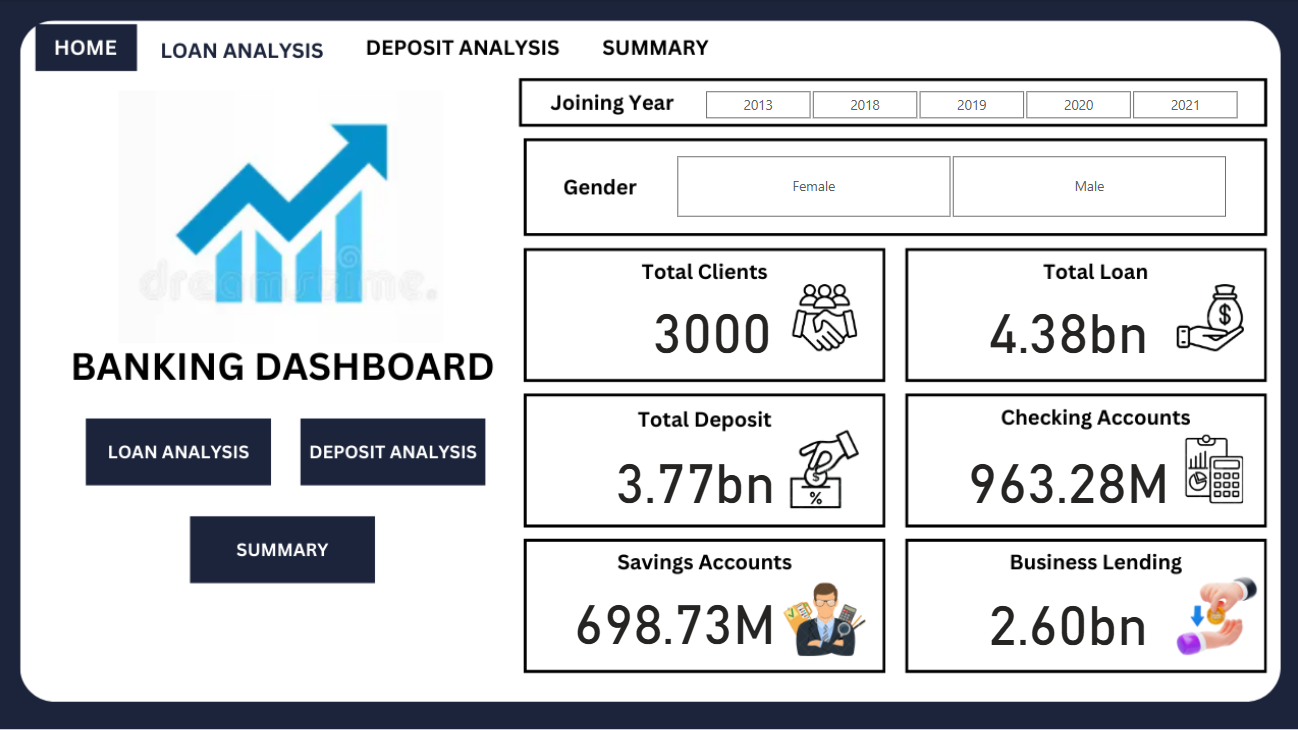

The dashboard page shown, as its layout file describes it:
{"tool":"powerbi","page":{"name":"Home","canvas":[1280,720],"ordinal":0},"visuals":[{"type":"card","fields":{"Values":["banking-clients.Name"]},"box":[620.9,283.4,160.7,76.1],"z":0},{"type":"slicer","fields":{"Values":["banking-clients.GenderId"]},"box":[640.5,147.2,589,73.6],"z":1000},{"type":"card","fields":{"Values":["banking-clients.Total Loan"]},"box":[962,283.4,177.9,76.1],"z":2000},{"type":"card","fields":{"Values":["banking-clients.Total Deposits"]},"box":[597.5,430.7,174.2,76.1],"z":3000},{"type":"slicer","fields":{"Values":["banking-clients.Year Of Joining"]},"box":[668.2,83.5,572.2,37.4],"z":4000},{"type":"card","fields":{"Values":["banking-clients.Saving Accounts"]},"box":[557.2,569.7,214.4,76],"z":5000},{"type":"card","fields":{"Values":["banking-clients.Business Lending"]},"box":[963.6,570.9,174.5,76],"z":6000},{"type":"card","fields":{"Values":["banking-clients.Checking Accounts"]},"box":[943.7,430.1,214.4,76],"z":7000},{"type":"actionButton","box":[88.3,414.7,179.1,63.8],"z":8000},{"type":"actionButton","box":[298.2,414.7,179.1,63.8],"z":9000},{"type":"actionButton","box":[187.7,506.8,179.1,63.8],"z":10000}]}

Visuals, with their boxes in screenshot pixels (x1, y1, x2, y2), scaled from the page's 1280x720 canvas onto the 1298x730 screenshot:
card - banking-clients.Name: box=[630, 287, 793, 364]
slicer - banking-clients.GenderId: box=[650, 149, 1247, 224]
card - banking-clients.Total Loan: box=[976, 287, 1156, 364]
card - banking-clients.Total Deposits: box=[606, 437, 783, 514]
slicer - banking-clients.Year Of Joining: box=[678, 85, 1258, 123]
card - banking-clients.Saving Accounts: box=[565, 578, 782, 655]
card - banking-clients.Business Lending: box=[977, 579, 1154, 656]
card - banking-clients.Checking Accounts: box=[957, 436, 1174, 513]
actionButton: box=[90, 420, 271, 485]
actionButton: box=[302, 420, 484, 485]
actionButton: box=[190, 514, 372, 579]
